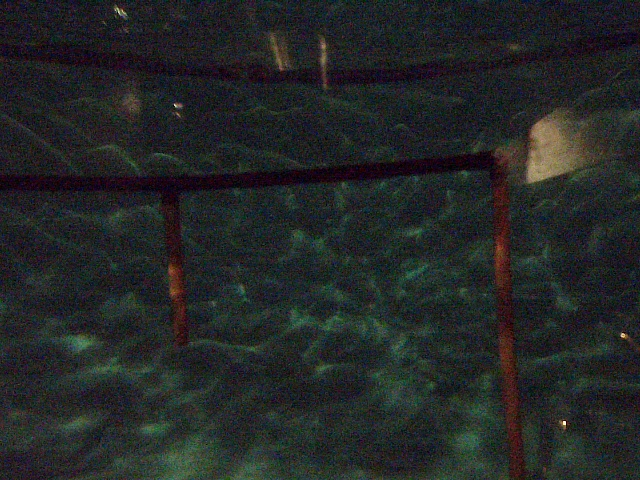Gate: (488, 176, 530, 480), (160, 193, 193, 347)
